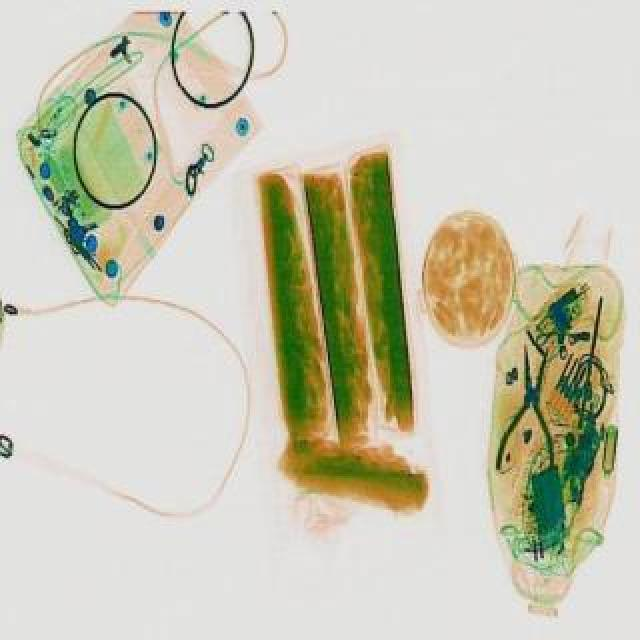wrench: (496, 344, 570, 480)
